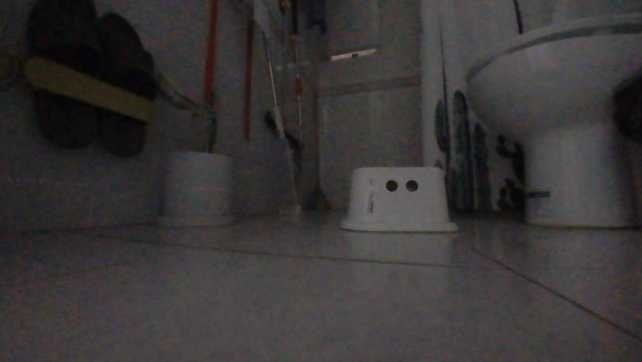toilet: (465, 0, 640, 228)
